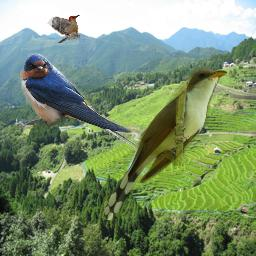Cuckoo: (104, 68, 227, 220)
Swallow: (19, 53, 153, 159)
Woodpecker: (47, 14, 80, 43)
